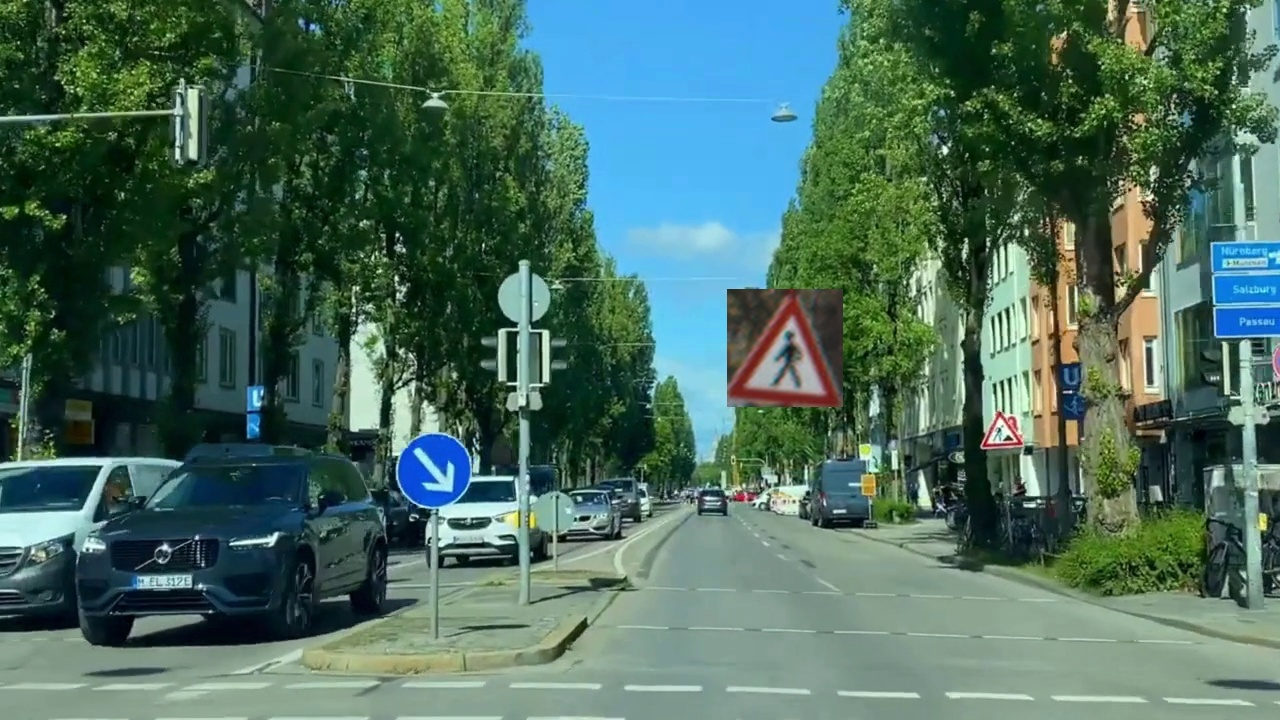Pedestrians: (727, 289, 843, 407)
